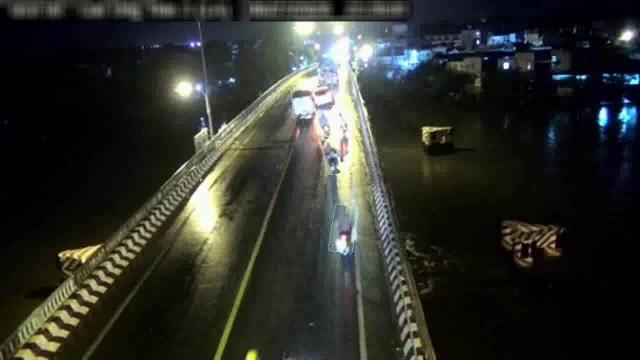Bike: (330, 205, 358, 253), (323, 138, 339, 176), (318, 111, 332, 137), (336, 110, 350, 134), (340, 134, 350, 166)
Car: (315, 84, 335, 108)
Truck: (292, 86, 316, 118)
